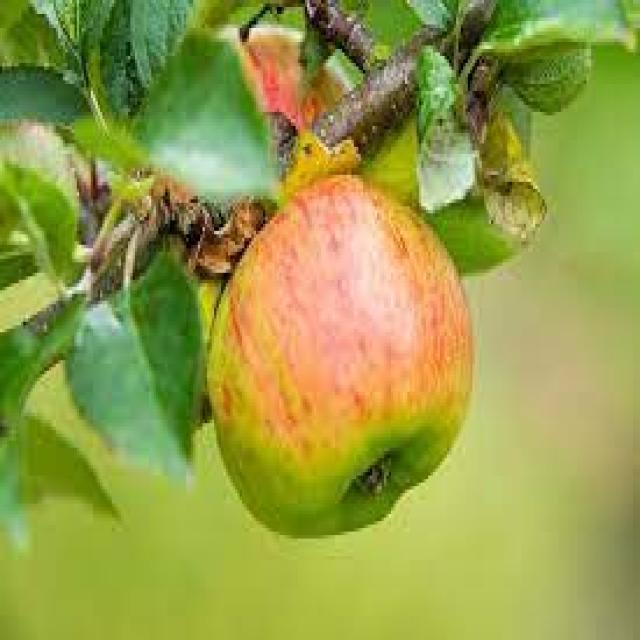Apple: (205, 172, 475, 538), (199, 21, 351, 158)
